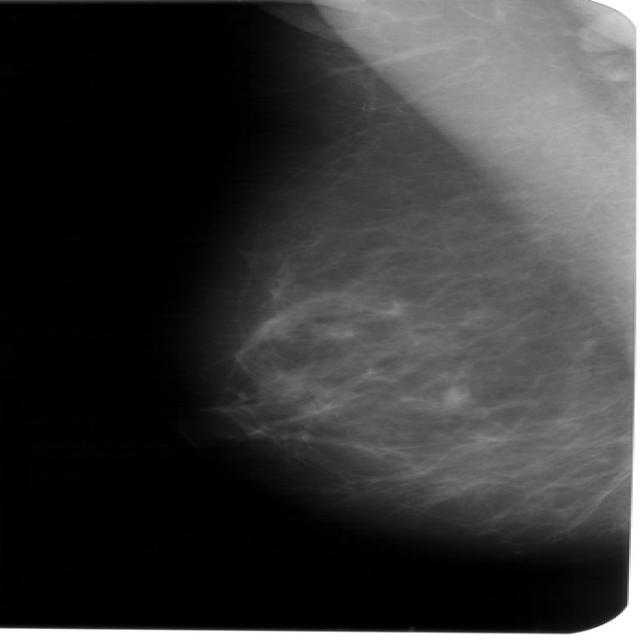tumour: (441, 384, 468, 406)
